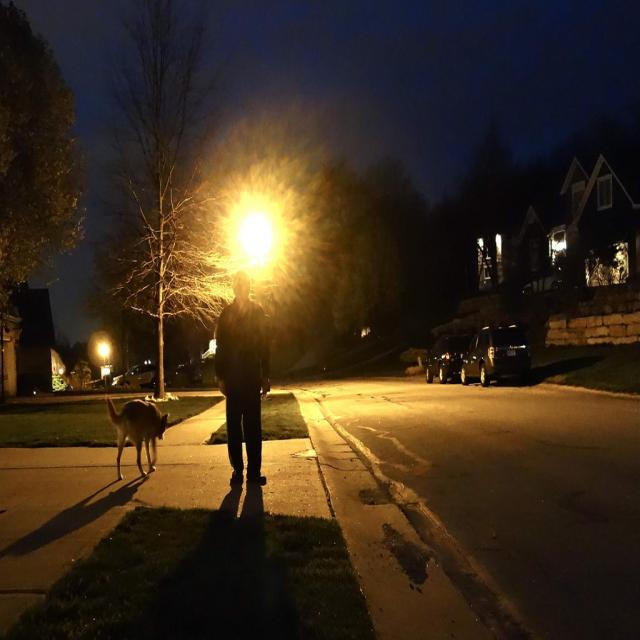Dog: (105, 396, 167, 480)
